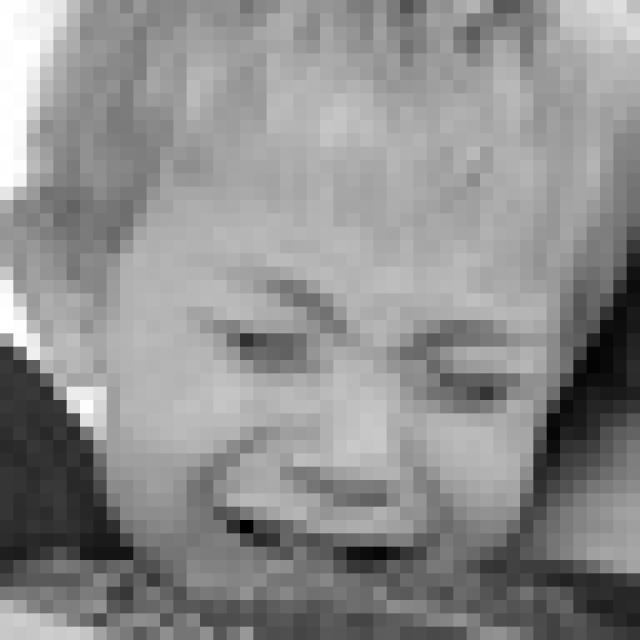sad: (196, 257, 541, 574)
